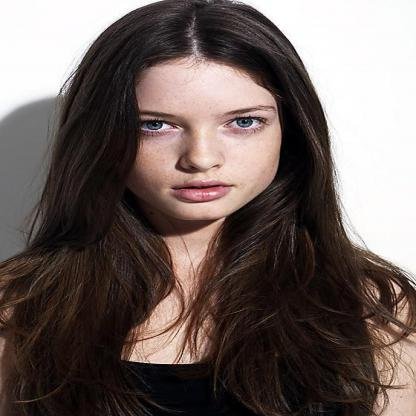long-hair: (27, 240, 366, 286)
